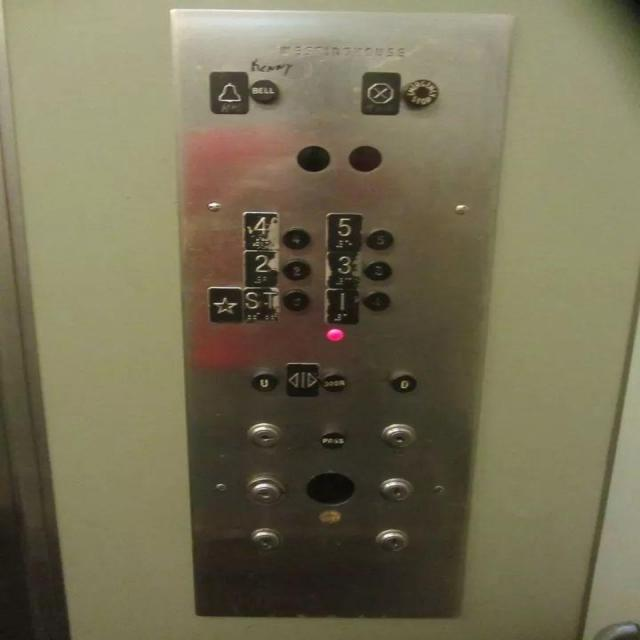0: (276, 286, 312, 312)
1: (319, 282, 362, 324), (359, 288, 395, 314)
2: (239, 245, 282, 288), (278, 256, 314, 282)
3: (321, 245, 365, 291), (360, 258, 396, 284)
4: (236, 207, 282, 252), (277, 224, 313, 250)
5: (320, 208, 364, 253), (361, 226, 396, 252)
D: (385, 370, 420, 396)
ST: (241, 282, 283, 324)
U: (245, 368, 281, 394)
alarm: (202, 66, 252, 117)
keyhole: (367, 523, 411, 557), (242, 521, 285, 555), (375, 420, 419, 453), (373, 472, 417, 505), (242, 419, 285, 452), (242, 473, 285, 506)
open: (279, 359, 322, 398)
s: (201, 282, 243, 324)
stop: (354, 66, 404, 117)
text: (398, 75, 442, 109), (246, 75, 282, 106), (318, 368, 354, 394), (314, 427, 349, 452)
